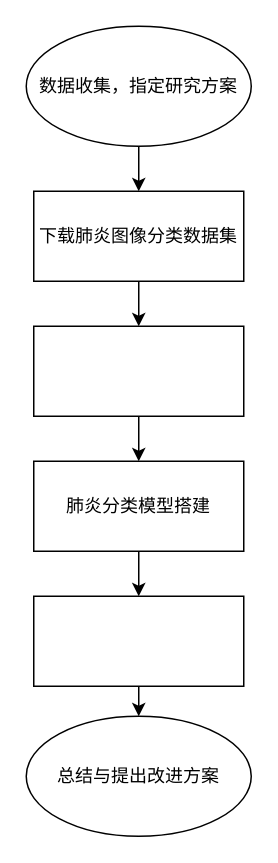
This 278x863 diagram has some shape labels left out. Each missing label, with the centre of its shape:
数据预处理: the point at 138,370
算法评估: the point at 138,640
